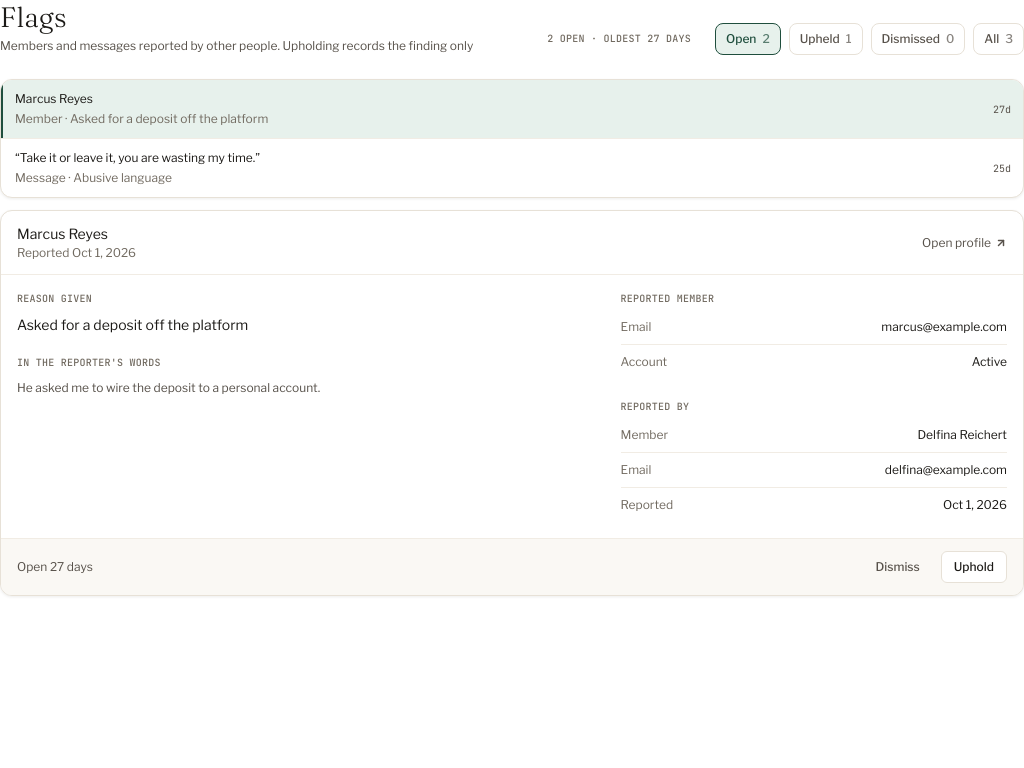
Test: AdminFlagsConsole · deciding › dismisses the report under review, once, then closes
The width and height of the screenshot is (1024, 768).
Step 1. Click the button "Dismiss" → x=898, y=567, box x1=862 y1=551 x2=933 y2=583
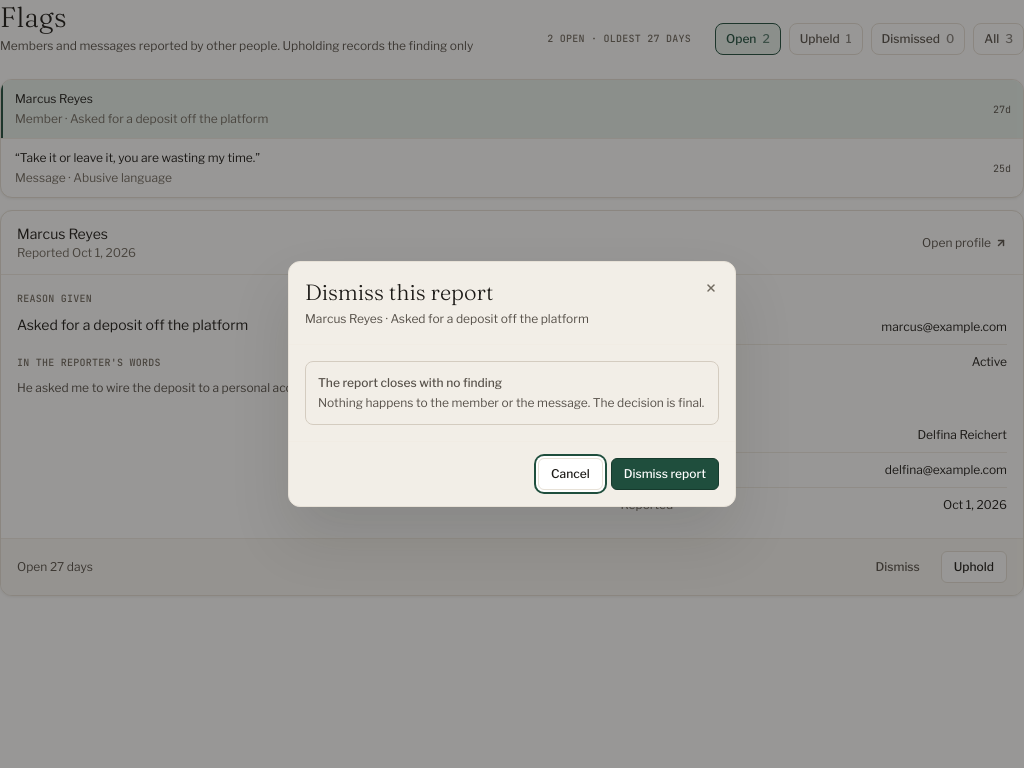
Step 2. Click the button "Dismiss report" → x=665, y=474, box x1=611 y1=458 x2=719 y2=490
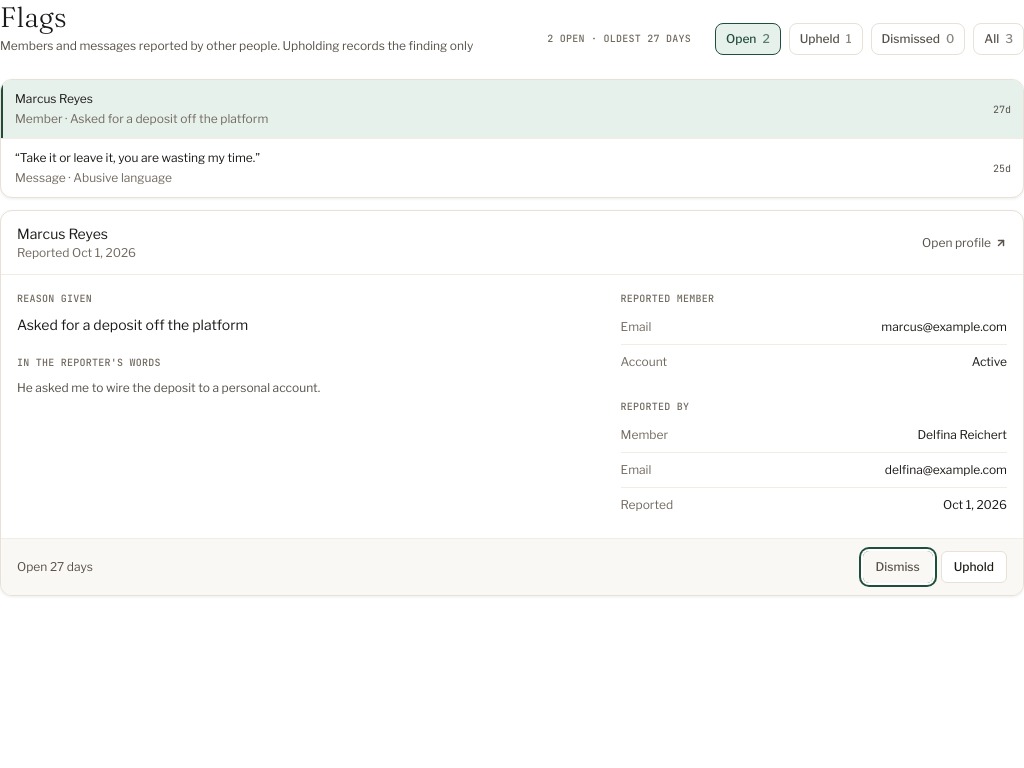
Expected: the dialog is gone
